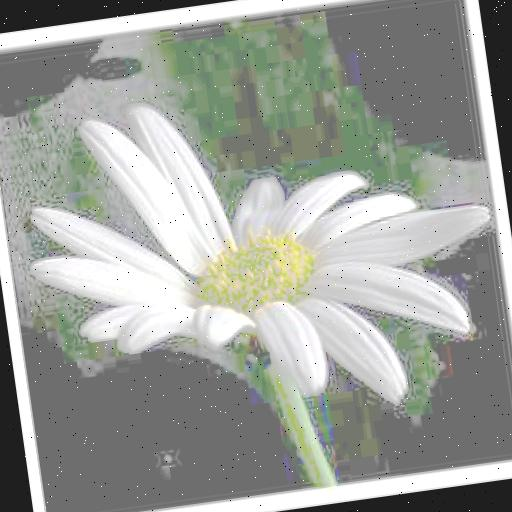daisy: (27, 70, 506, 382)
